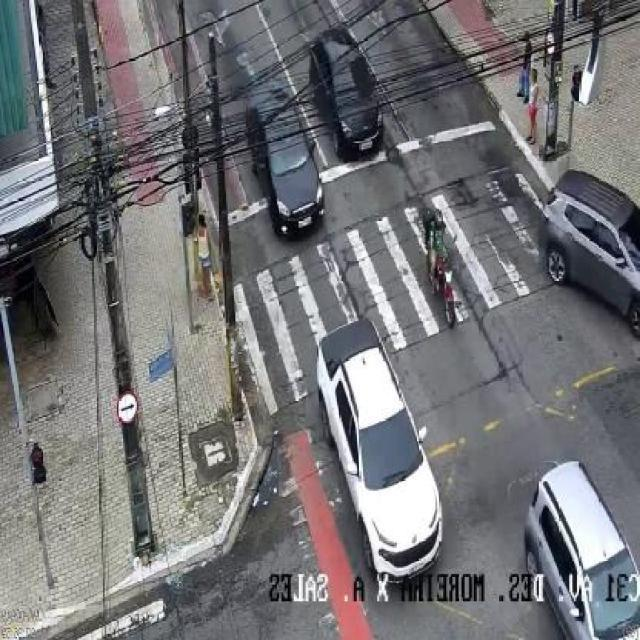Car: (523, 462, 638, 636), (542, 172, 638, 334), (249, 88, 325, 238), (308, 31, 384, 160)
Cycle: (427, 246, 459, 329)
Truck: (314, 321, 442, 578)
